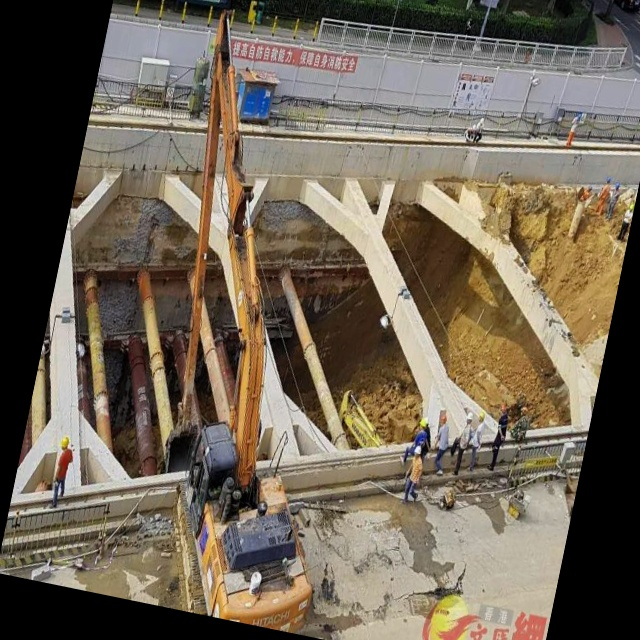Con_Casco: (413, 445, 423, 460), (439, 413, 447, 426), (478, 412, 486, 424)
